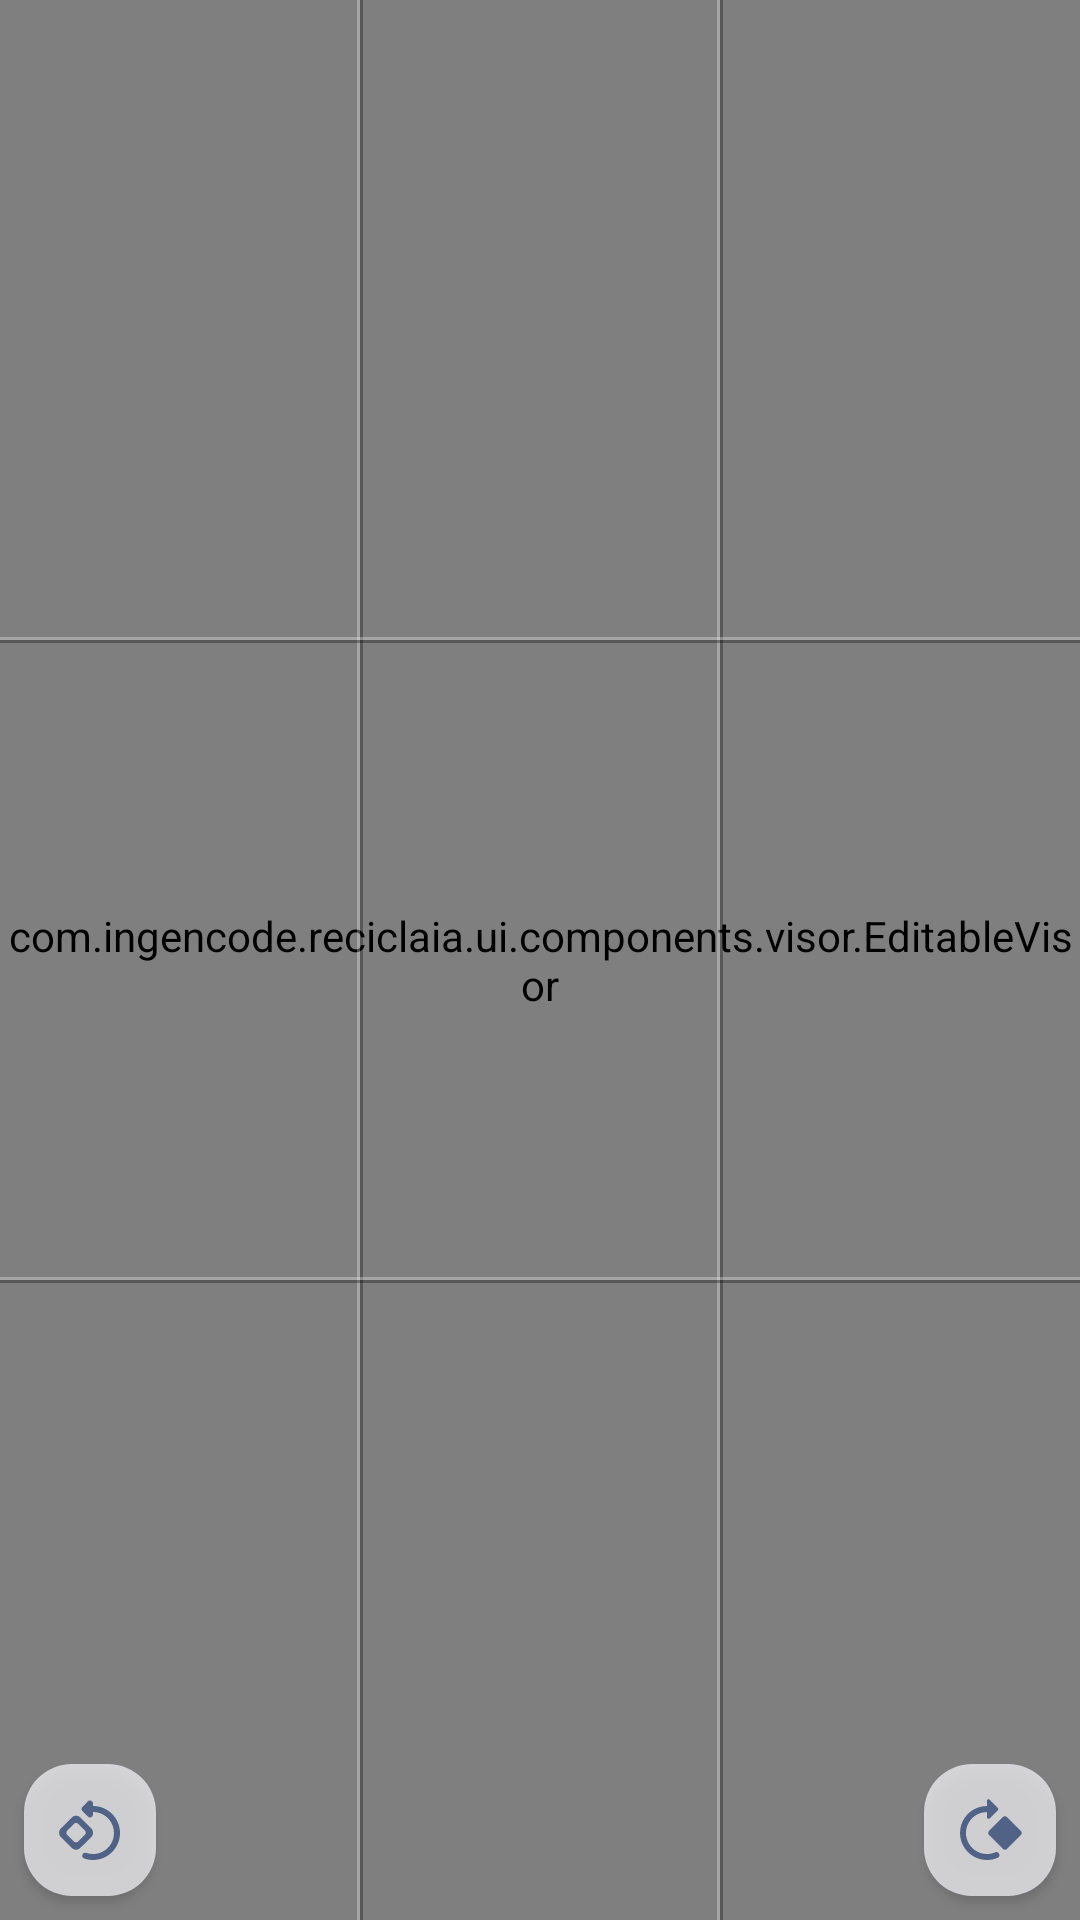

Screen size 1080*1920. Icon name, then its center in pixels as (x=x, y=y):
Rotate ccw: (x=90, y=1830)
rotate cw: (x=990, y=1830)
